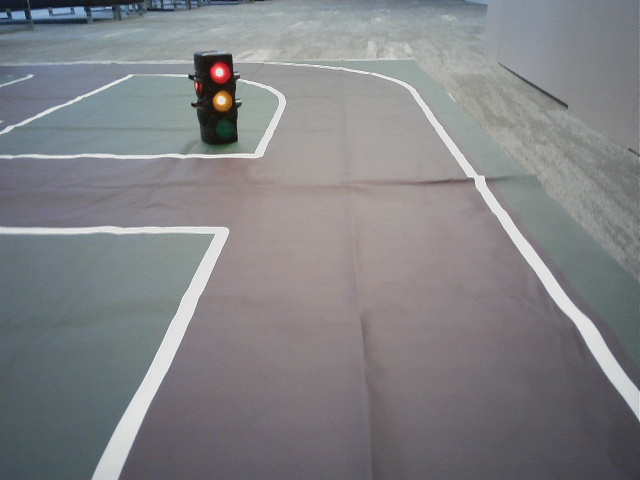red: (206, 55, 235, 143)
